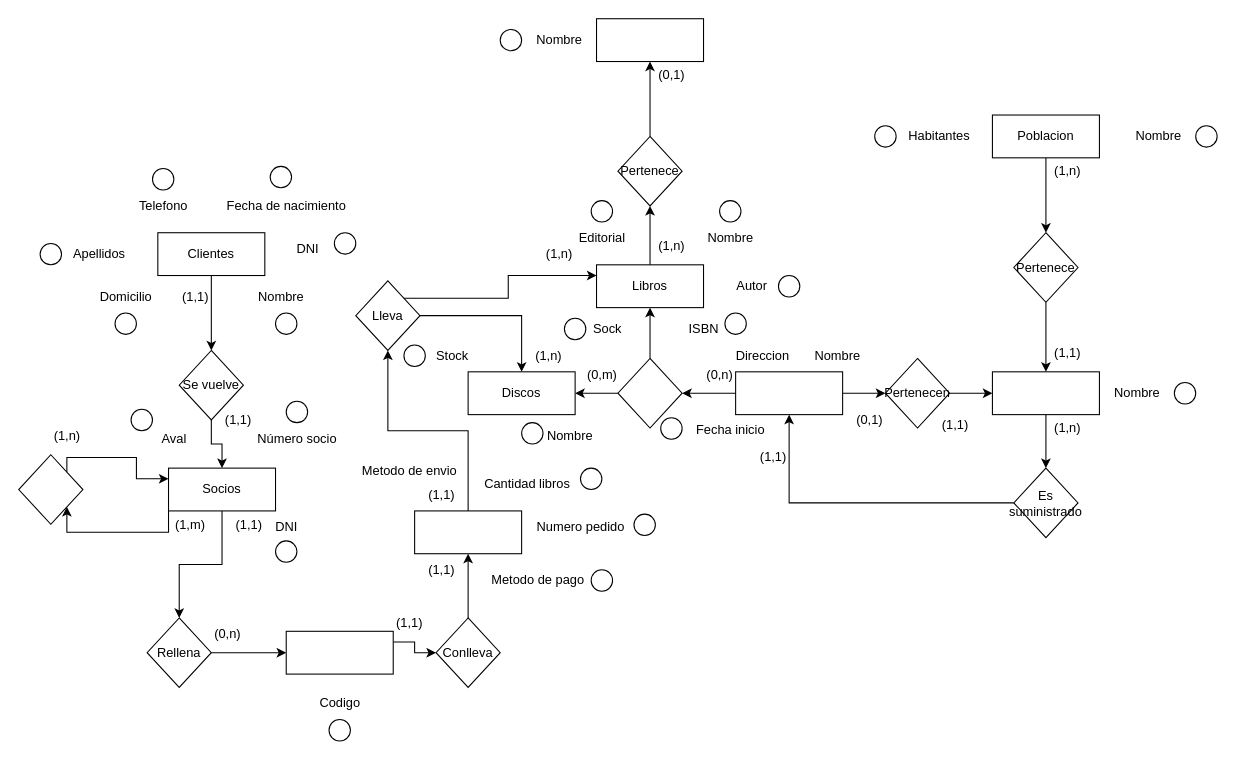
Some shapes in this 1236 by 760 pixel diagram are drawn without their labels. The shapes that lost their labels are listed below. From the top down, each one's centre as x and y in pixels, then its label:
(649,40): Colecciones
(649,392): Tiene
(789,393): Almacen
(1045,393): Provincia
(50,489): Se avala
(468,532): Pedido
(339,652): Hojas de pedido
